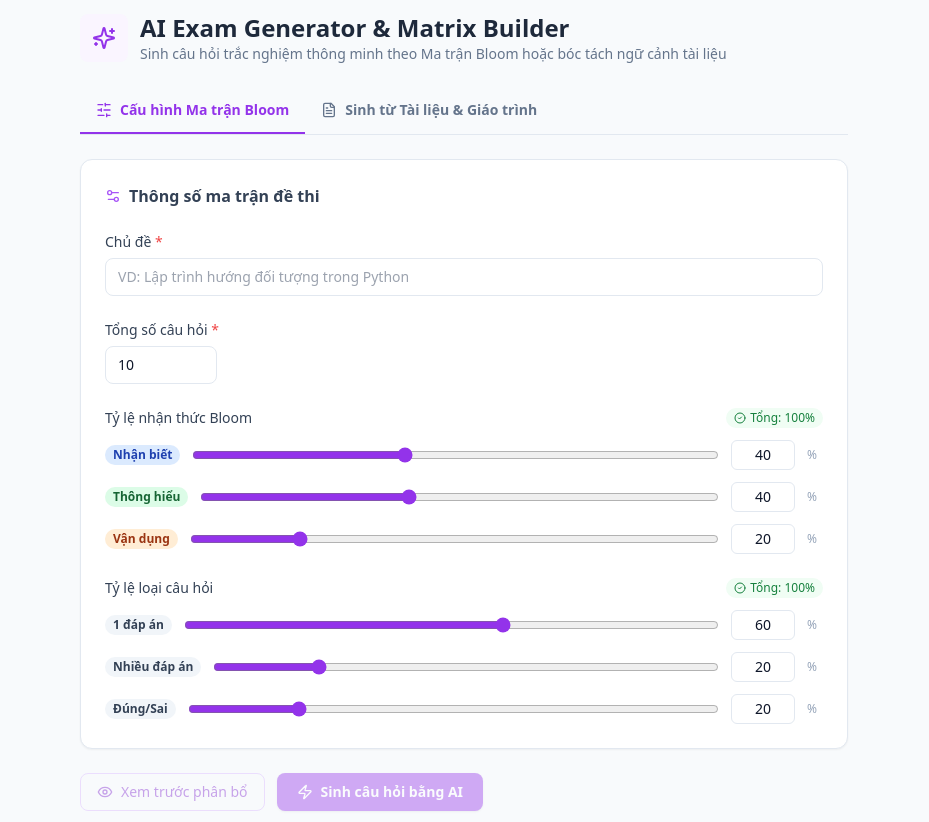
Test: AiGenPage — Generate & Review Step › transitions to review step after generating questions
Type "Python OOP" into the field with placeholder "VD: Lập trình hướng đối tượng trong Python" at {"x": 464, "y": 277}, box [105,258,823,296]
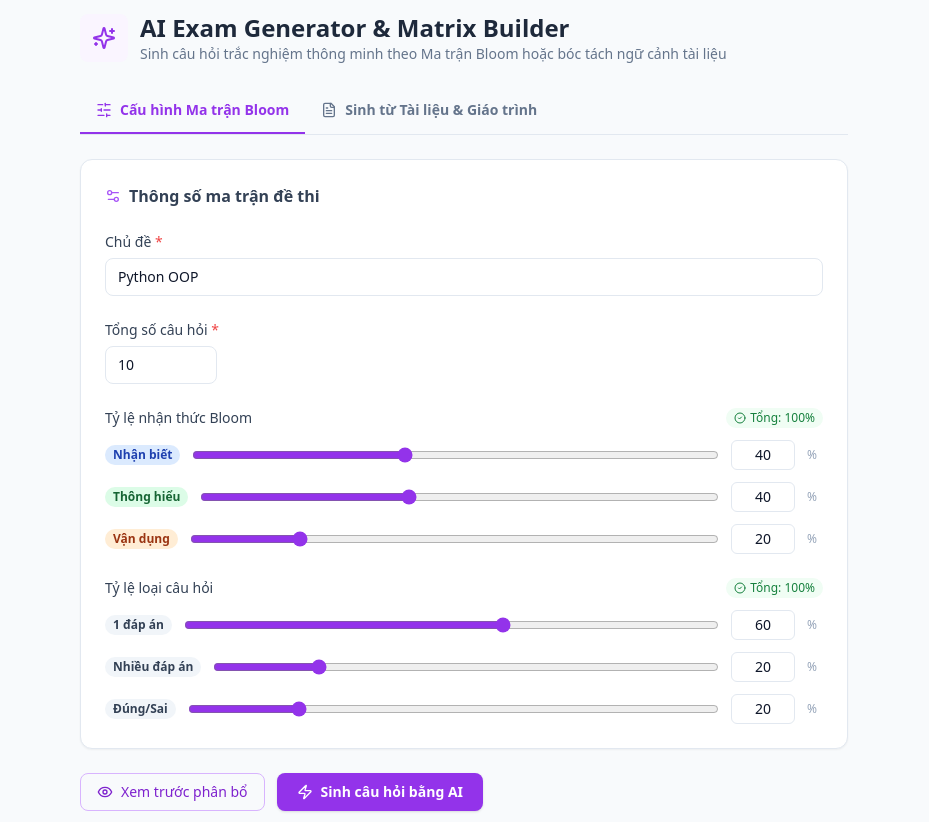
Click the button "Sinh câu hỏi bằng AI" at {"x": 380, "y": 792}, box [277,773,483,811]
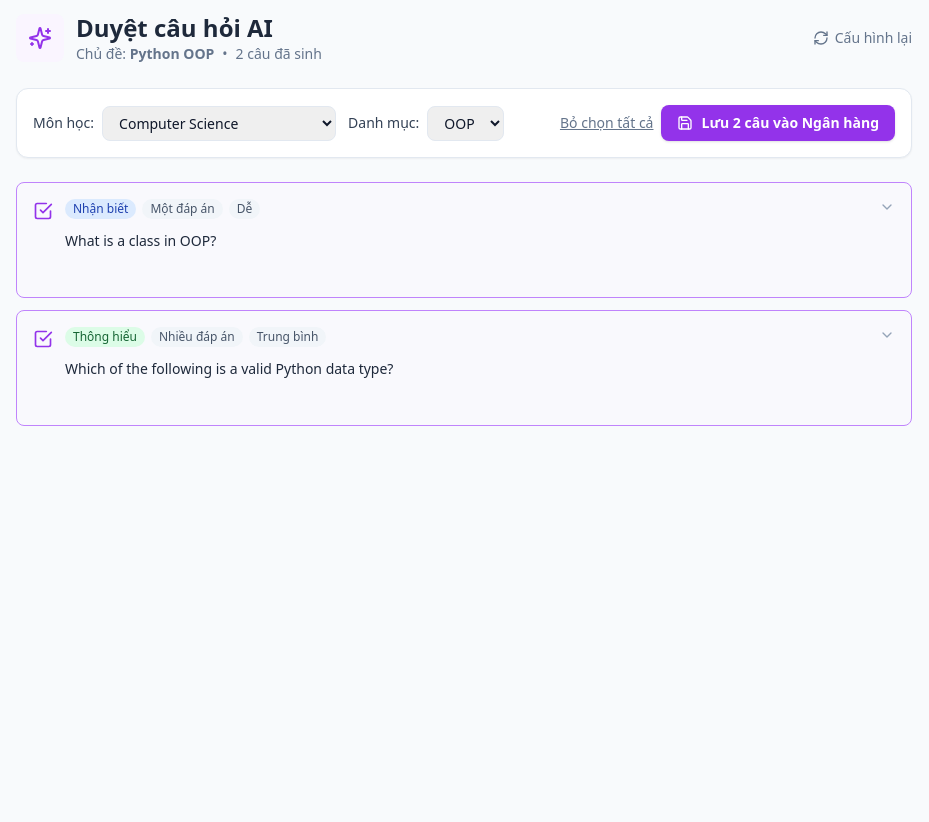
expect the heading "Duyệt câu hỏi AI" is shown: met, box [76,11,273,44]
expect the text box "What is a class in OOP" below "Nhận biết" is shown: met, box [61,227,863,275]
expect the text box "valid Python data type" below "Thông hiểu" is shown: met, box [61,355,863,403]
